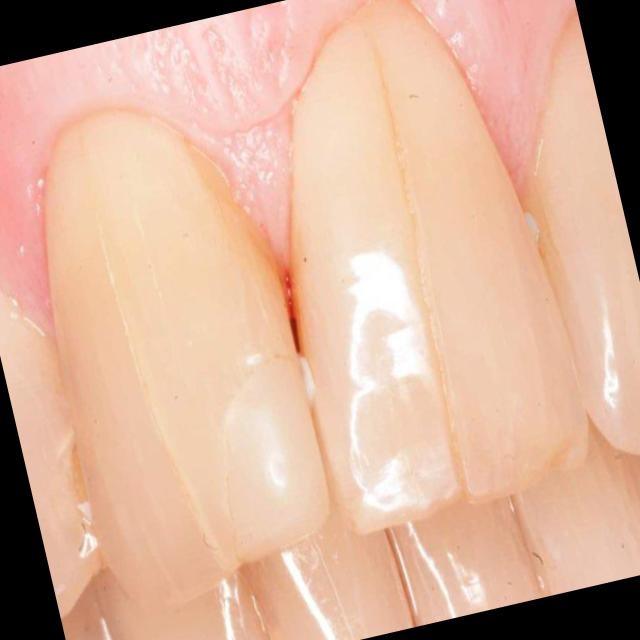Tooth: (286, 4, 584, 524), (42, 114, 330, 608)
